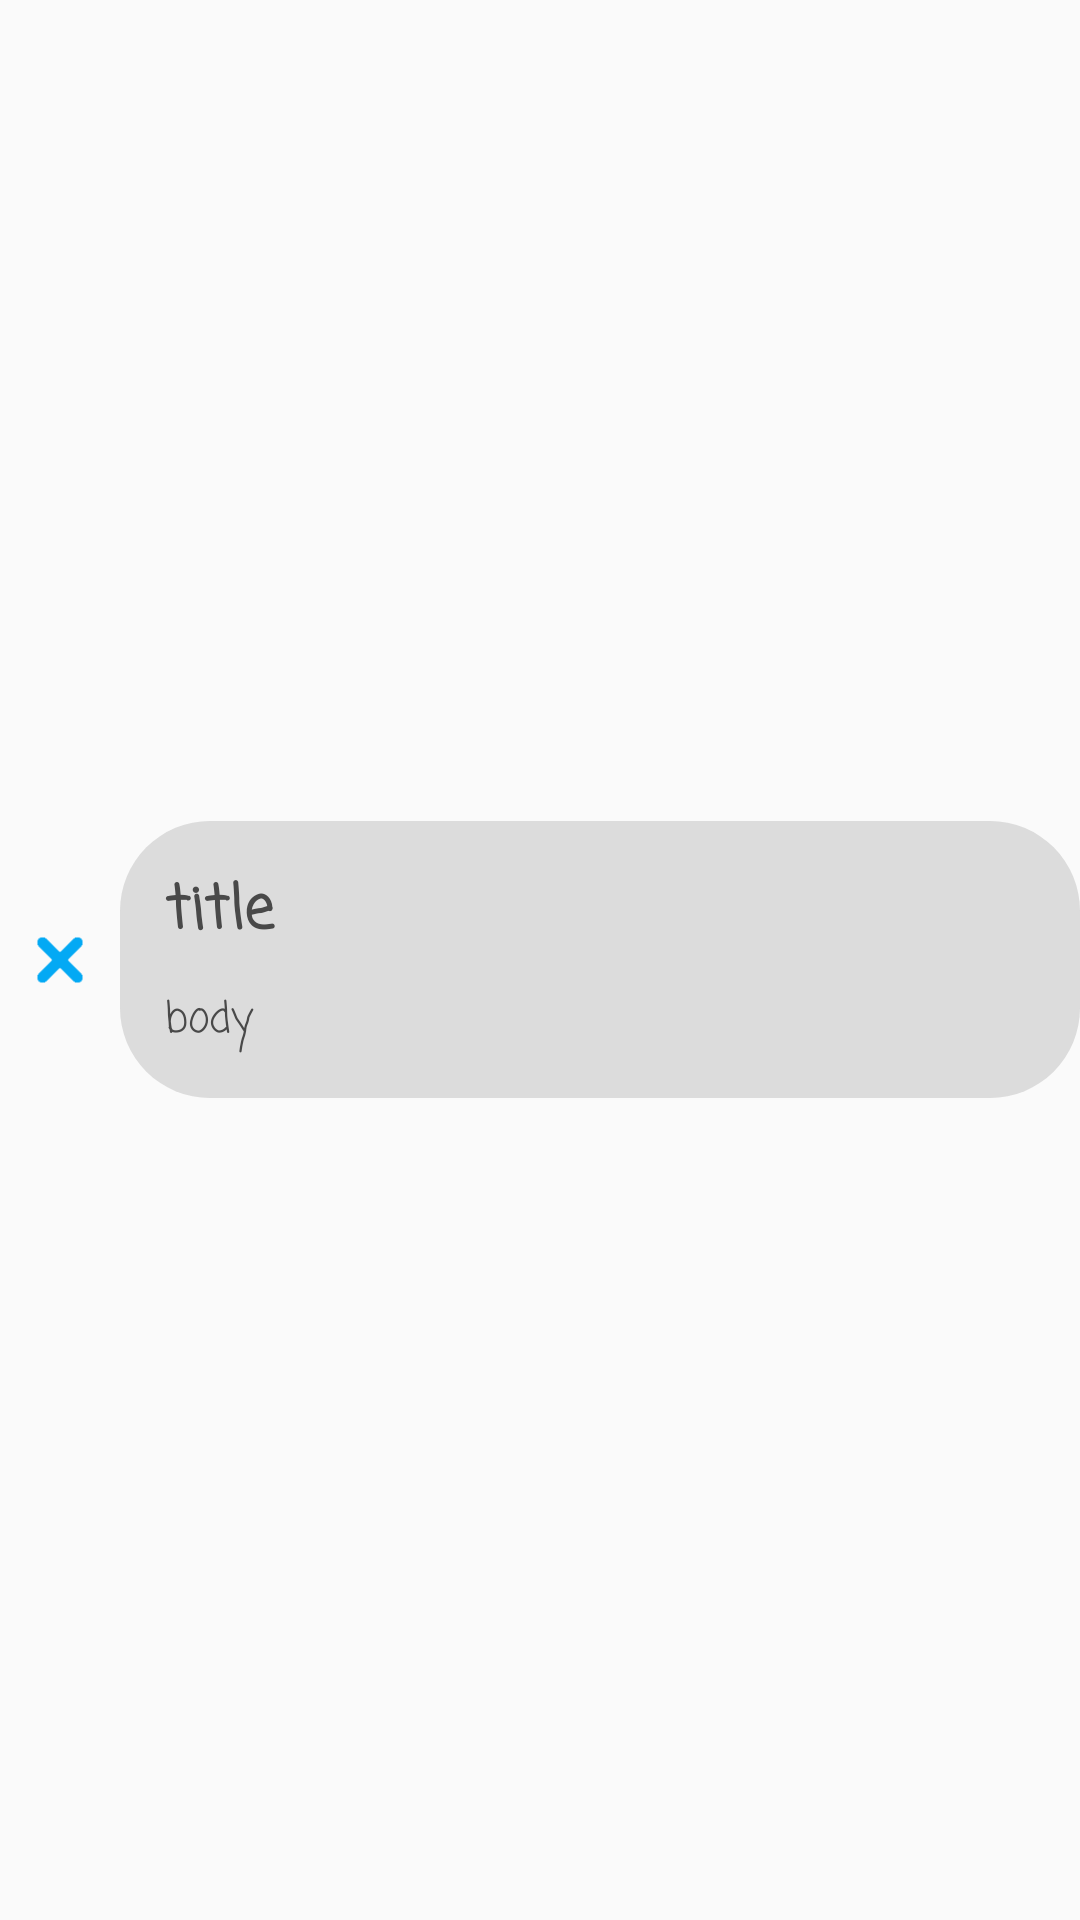

Where icons sit on this 1080x1920 app screen, as (x1, y1, x2, y2):
remove: (37, 937, 83, 983)
